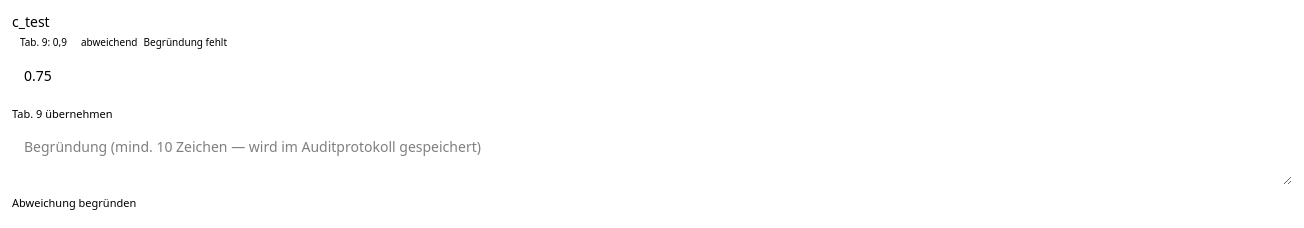
LookupFillField — fix round 1 pins › an override without a saved reason shows "Begründung fehlt" (lookup-reason-missing) — visible state, no gate
Expected: the text with test id "lookup-reason-missing" reads "Begründung fehlt", x1=144 y1=35 x2=227 y2=49
Step 1. Replace the text in the text box named "Begründung der Abweichung" with "Örtliche Messung 2026" → (652, 157), box x1=12 y1=129 x2=1292 y2=185
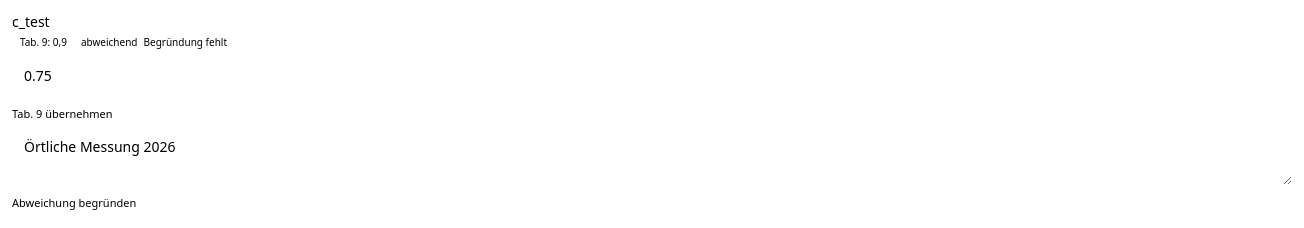
Step 2. Click the button "Abweichung begründen" → (74, 203), box x1=12 y1=195 x2=136 y2=211
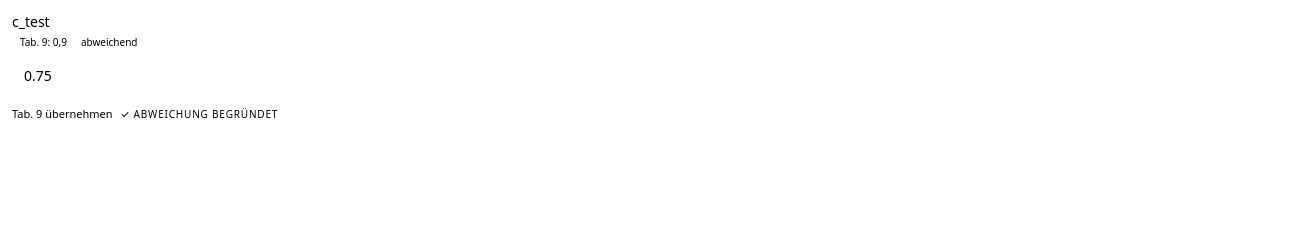
Expected: the text "✓ Abweichung begründet" is shown, x1=112 y1=105 x2=286 y2=124
Expected: the text with test id "lookup-reason-missing" is gone
